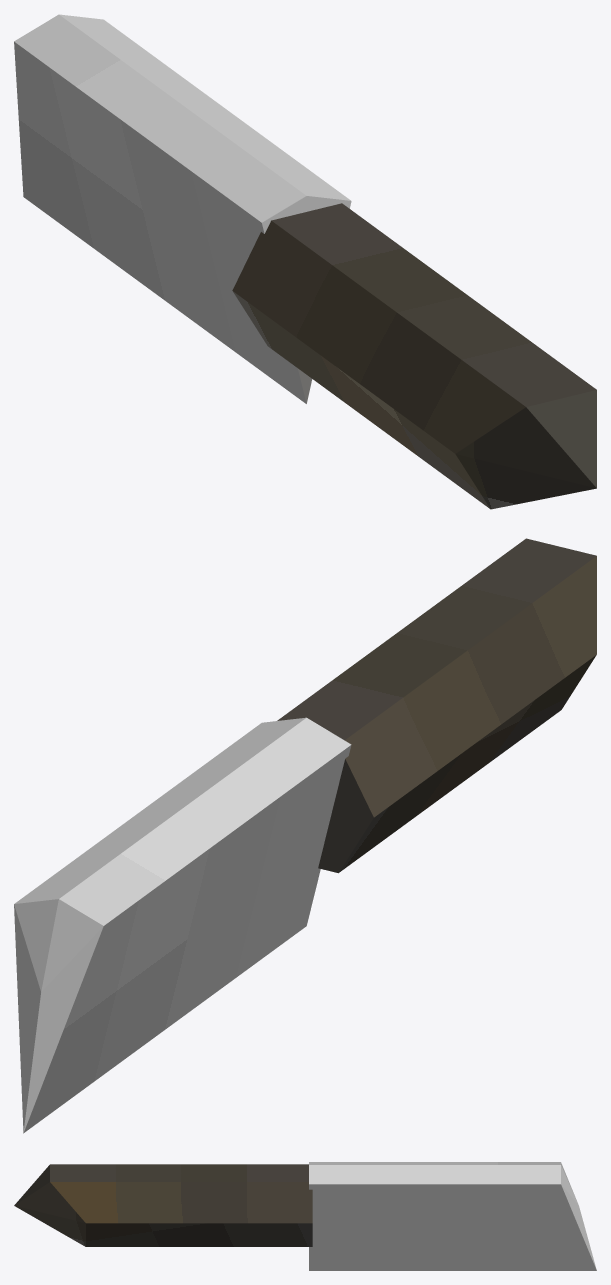
Rendered from knife 1.fbx.
The picture shows the model from 3 angles, top to bottom: view 1: azimuth 30°, elevation 25°; view 2: azimuth 150°, elevation 25°; view 3: azimuth 270°, elevation 25°; orthographic projection. The views are drawn at different scales.
Parts seen in each view (by area): view 1: cylinder, cylinder_1; view 2: cylinder_1, cylinder; view 3: cylinder_1, cylinder.
Part boxes in pixels (left/top/right/bottom): cylinder: left=232, top=203, right=596, bottom=509; cylinder_1: left=14, top=14, right=351, bottom=403; cylinder_1: left=14, top=717, right=351, bottom=1133; cylinder: left=277, top=538, right=596, bottom=873; cylinder_1: left=309, top=1162, right=596, bottom=1270; cylinder: left=14, top=1164, right=312, bottom=1246.
Size of the model in its own units: 7.22 by 10.16 by 50.62.
1 material, 1 textured.
